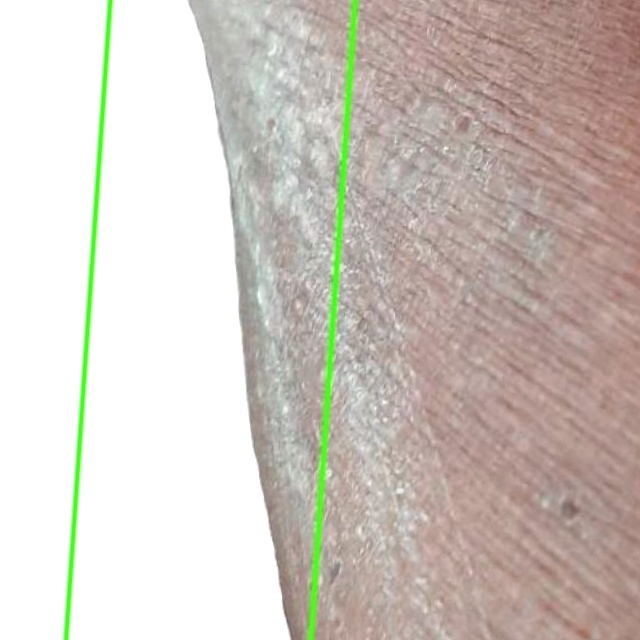Eczema: (65, 0, 639, 639), (0, 0, 355, 639)
